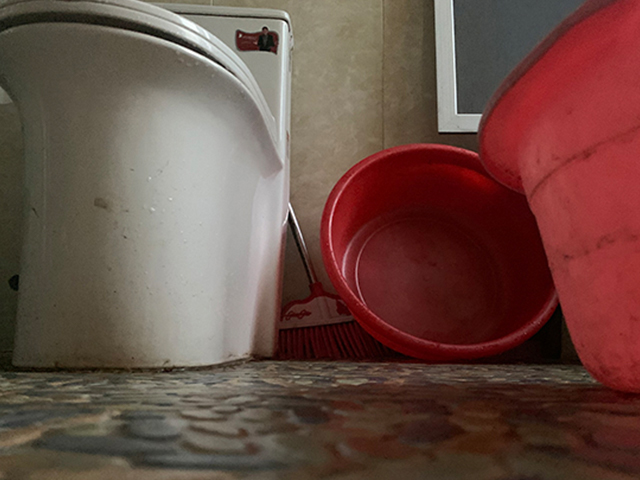closestool: (1, 1, 296, 370)
